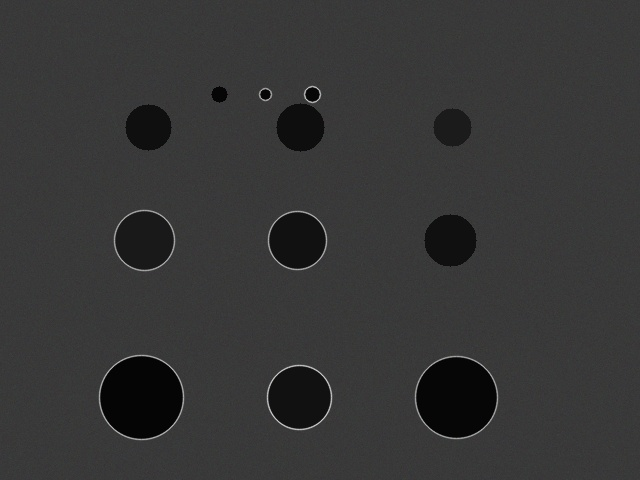hole: (99, 355, 183, 439), (415, 356, 497, 438), (267, 365, 331, 429), (114, 210, 174, 270), (268, 211, 326, 269), (424, 214, 476, 266), (276, 103, 324, 151), (125, 104, 171, 150), (433, 108, 471, 146), (211, 86, 227, 102), (304, 86, 320, 102), (259, 88, 271, 100)
